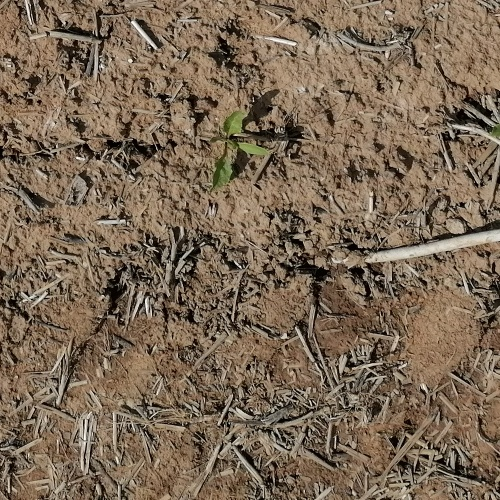beet: (212, 111, 272, 188)
